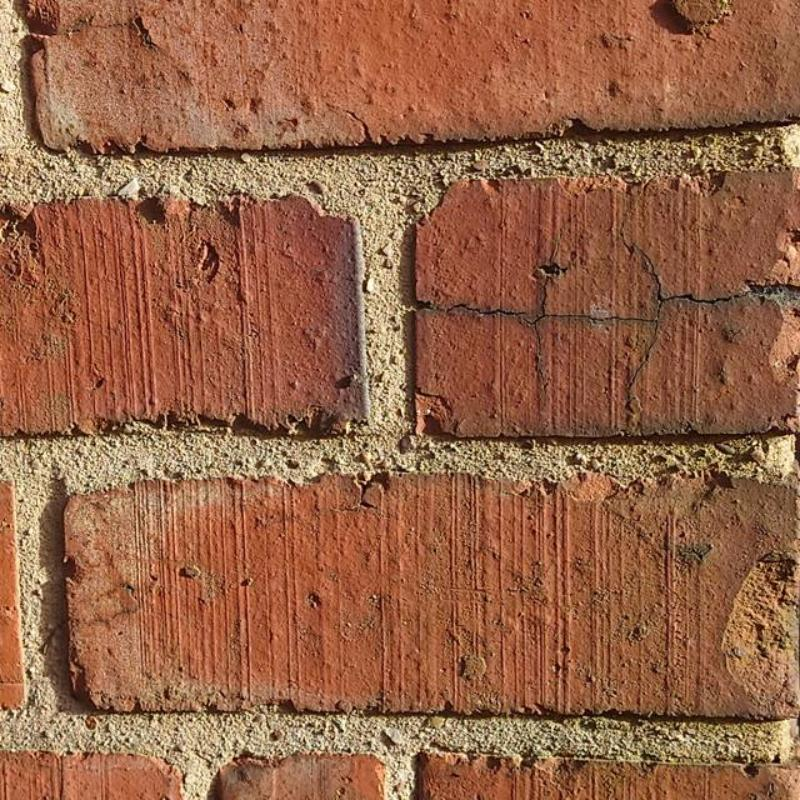pothole: (417, 220, 750, 436), (344, 109, 379, 145), (356, 481, 376, 509)
